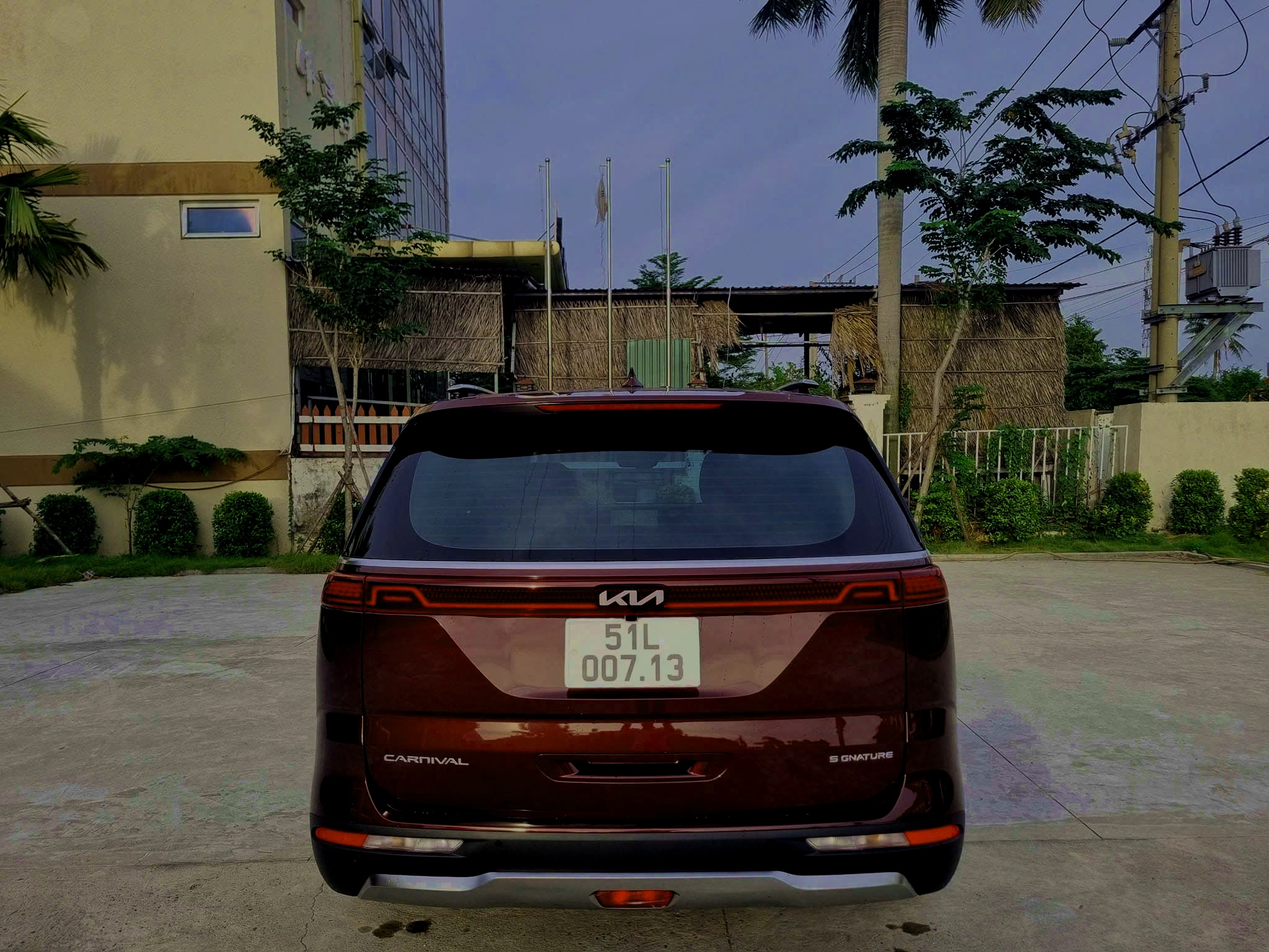Bien-so: (562, 614, 704, 698)
